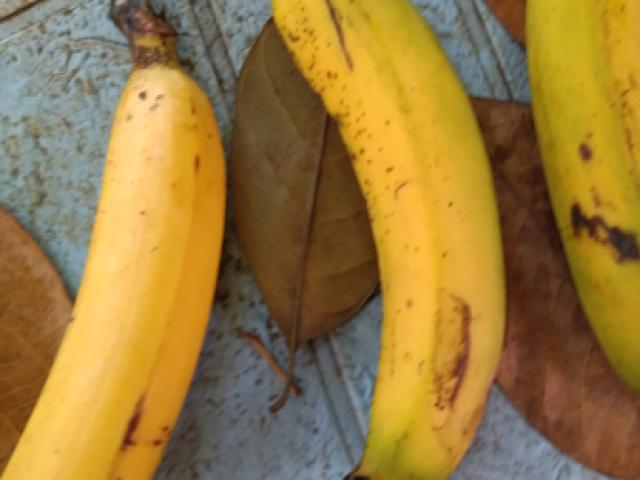freshripe: (12, 57, 231, 473)
ripe: (265, 5, 513, 479), (485, 0, 639, 406)
